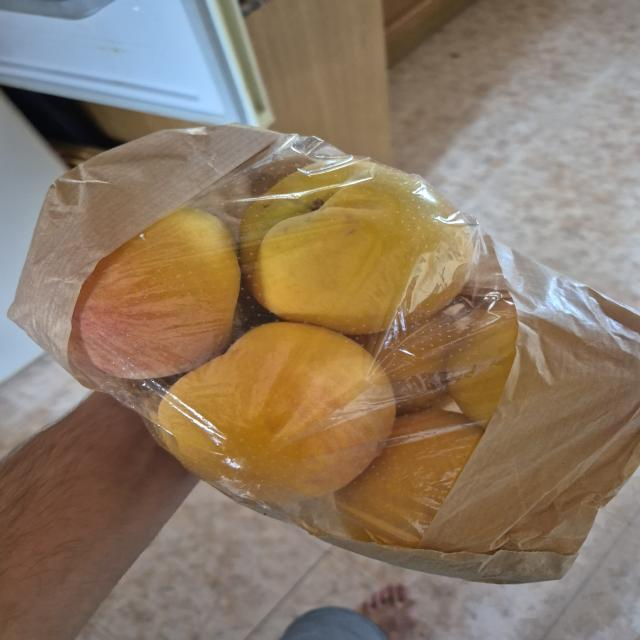melocoton: (156, 321, 397, 501), (245, 162, 479, 334)
